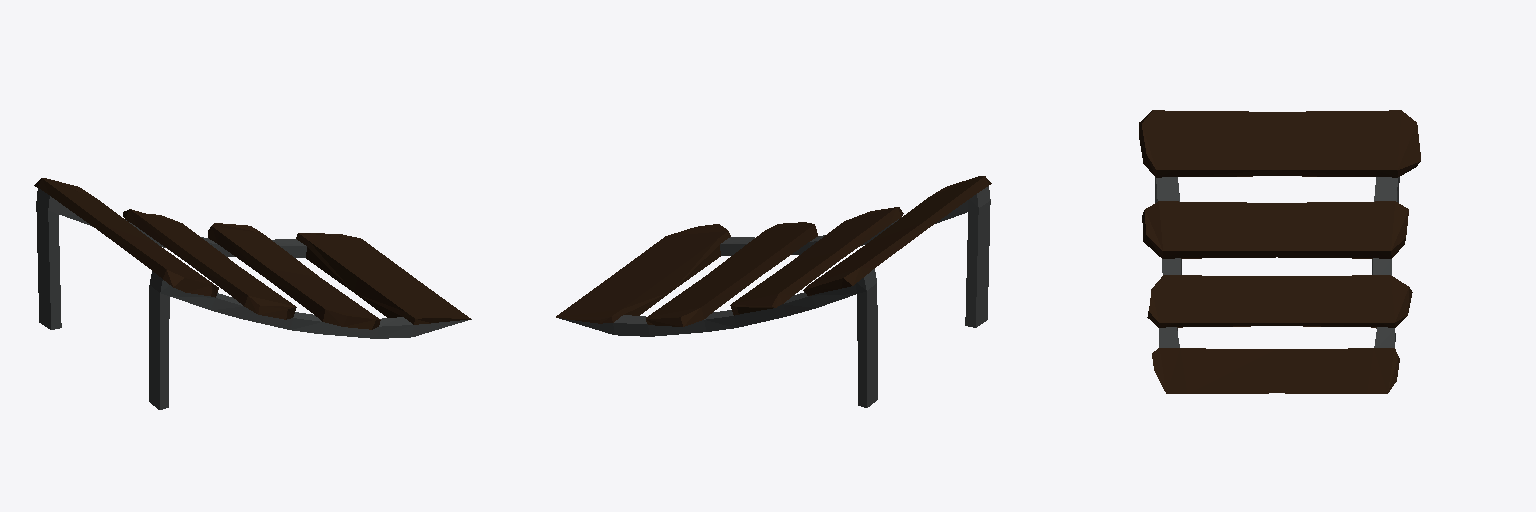
The model's file is ramp1.obj.
3 views of the same model, side by side, from view 1: azimuth 30°, elevation 25°; view 2: azimuth 150°, elevation 25°; view 3: azimuth 270°, elevation 25° (orthographic).
Visible parts, largest first — view 1: Cube_Cube.001; view 2: Cube_Cube.001; view 3: Cube_Cube.001.
Boxes of the visible parts, x1=… form: Cube_Cube.001: x1=34, y1=178, x2=471, y2=409; Cube_Cube.001: x1=556, y1=176, x2=991, y2=407; Cube_Cube.001: x1=1139, y1=110, x2=1420, y2=393.
Size of the model in its own units: 1.68 by 0.715 by 1.29.